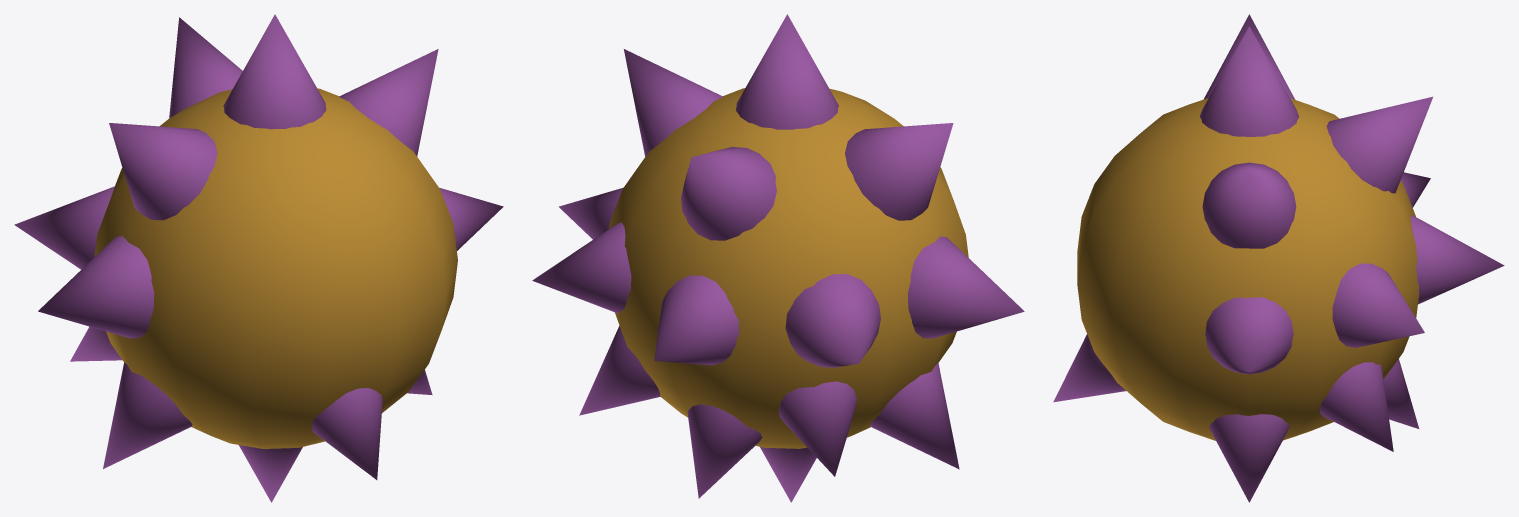
Rendered from SpineEnemy.fbx.
The picture shows the model from 3 angles, left to right: view 1: azimuth 30°, elevation 25°; view 2: azimuth 150°, elevation 25°; view 3: azimuth 270°, elevation 25°; orthographic projection. The views are drawn at different scales.
Parts seen in each view (by area): view 1: SpineEnemy1; view 2: SpineEnemy1; view 3: SpineEnemy1.
Part boxes in pixels (x1,y1,x2,y2): SpineEnemy1: [14, 14, 503, 502]; SpineEnemy1: [532, 14, 1024, 502]; SpineEnemy1: [1053, 14, 1504, 502].
Size of the model in its own units: 2.94 by 2.94 by 2.57.
